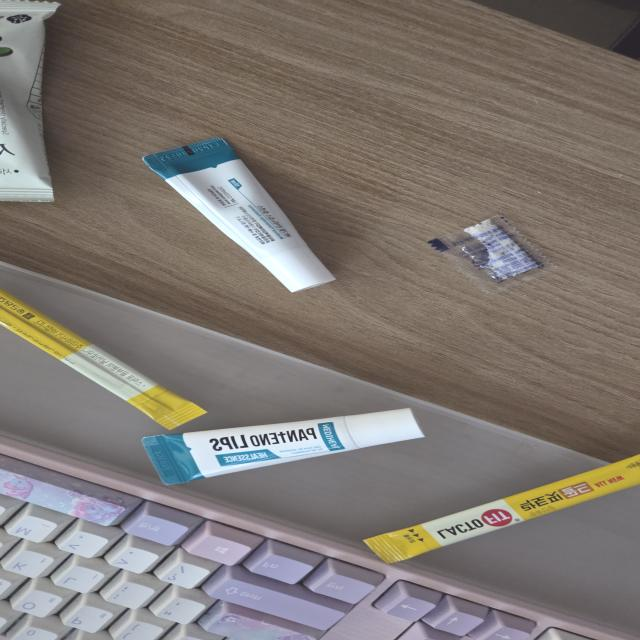lacto: (364, 457, 640, 566), (0, 289, 206, 431)
lib: (138, 137, 336, 296), (138, 408, 428, 484)
salt: (430, 207, 552, 297)
